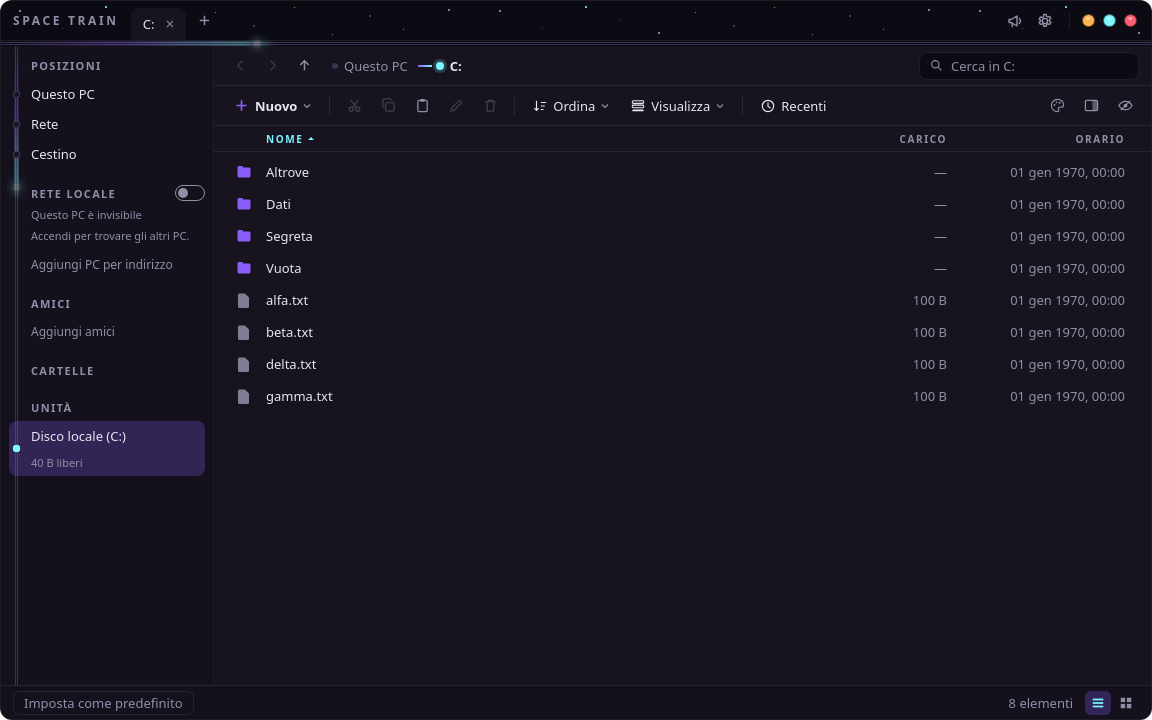
Scenario: appunti di Windows › incolla file copiati in Esplora o in un altra app
Double-click the row "Dati — 01 gen 1970, 00:00" at {"x": 1068, "y": 204}, box [236, 195, 1125, 213]
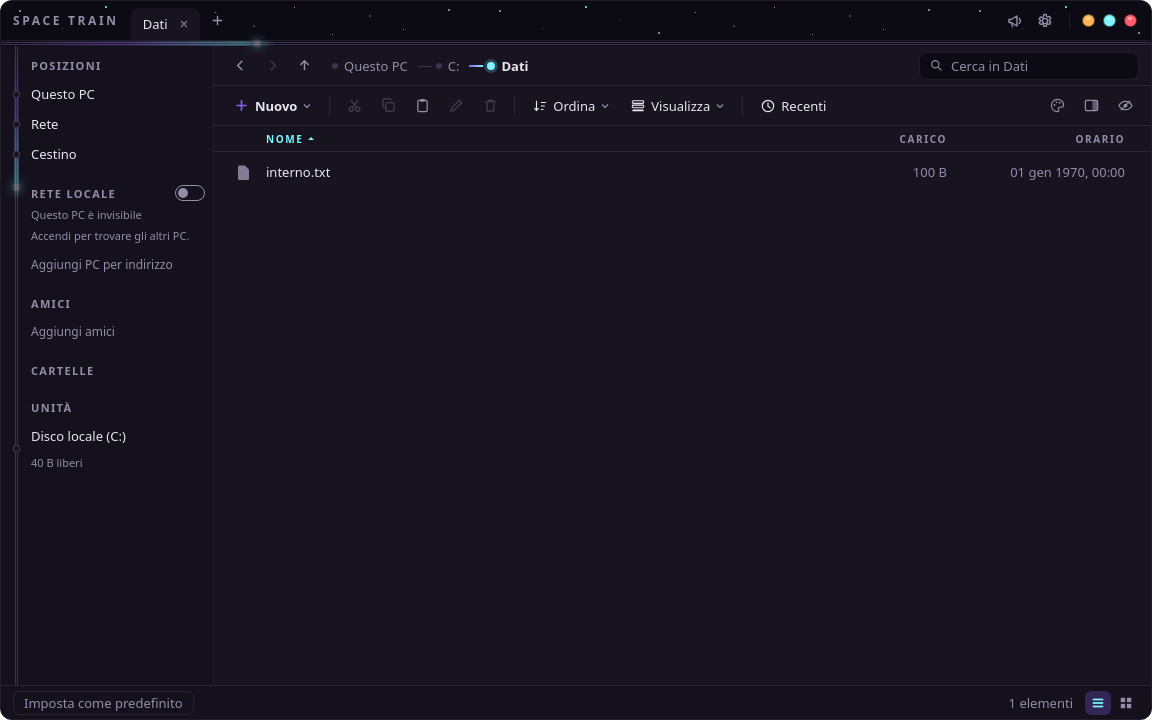
Press v
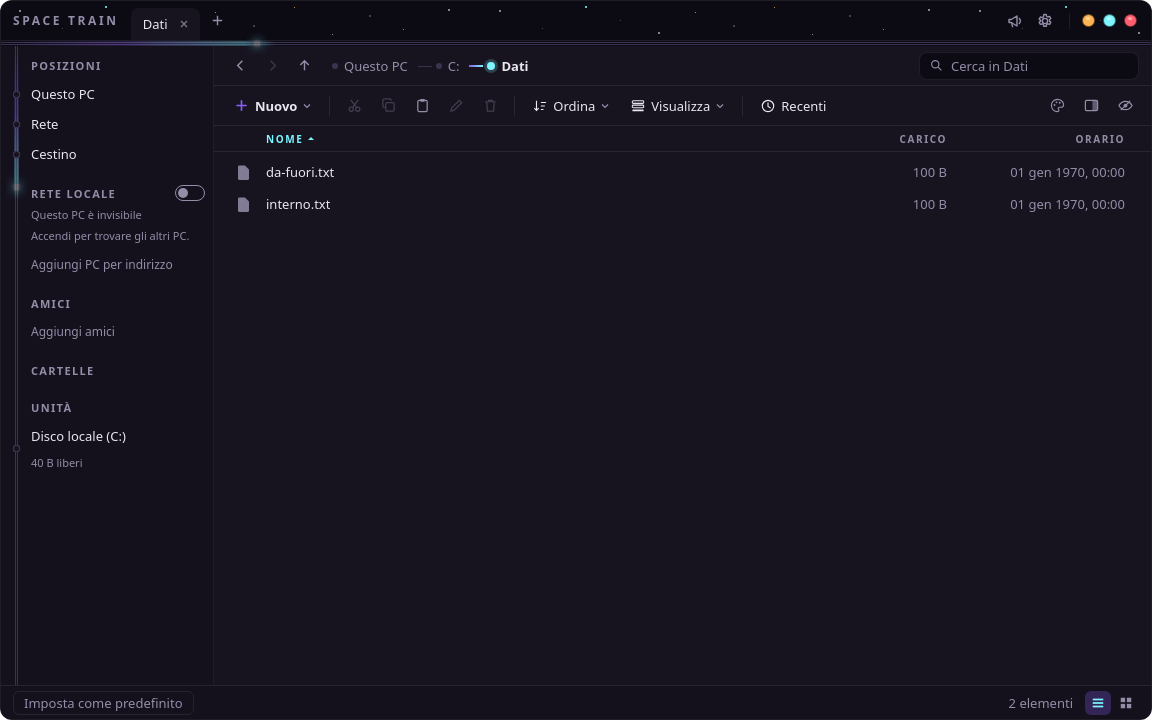
Result: the text "da-fuori.txt" is shown at [266, 163, 334, 181]
